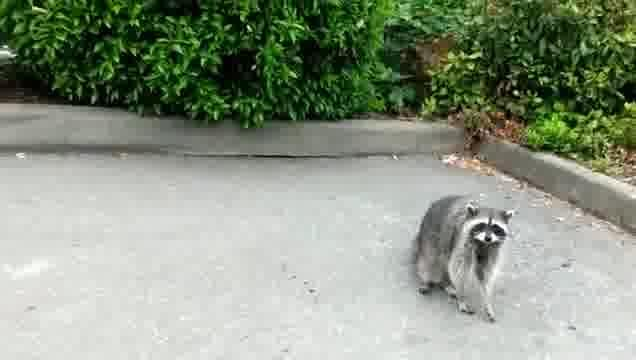raccoon: (410, 193, 514, 323)
